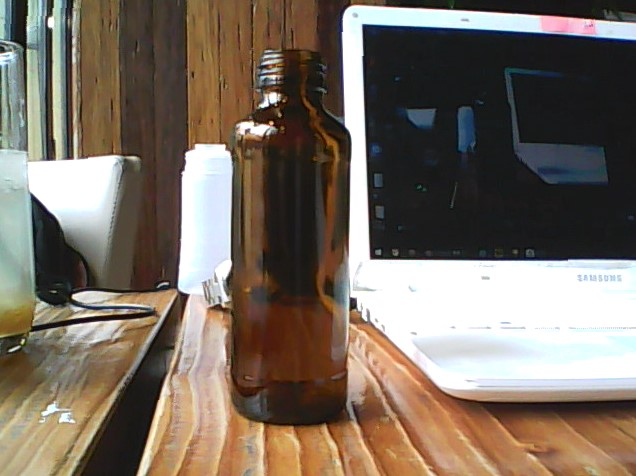Glass: (227, 45, 355, 425)
